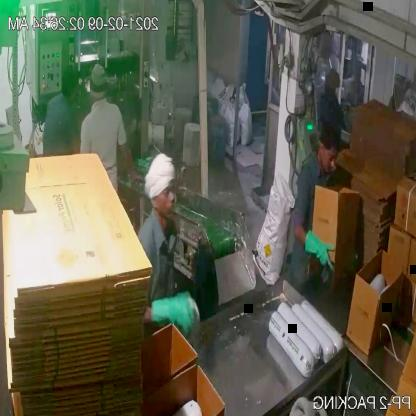glove: (142, 281, 201, 342), (298, 228, 338, 275)
no_glove: (119, 133, 145, 195)
